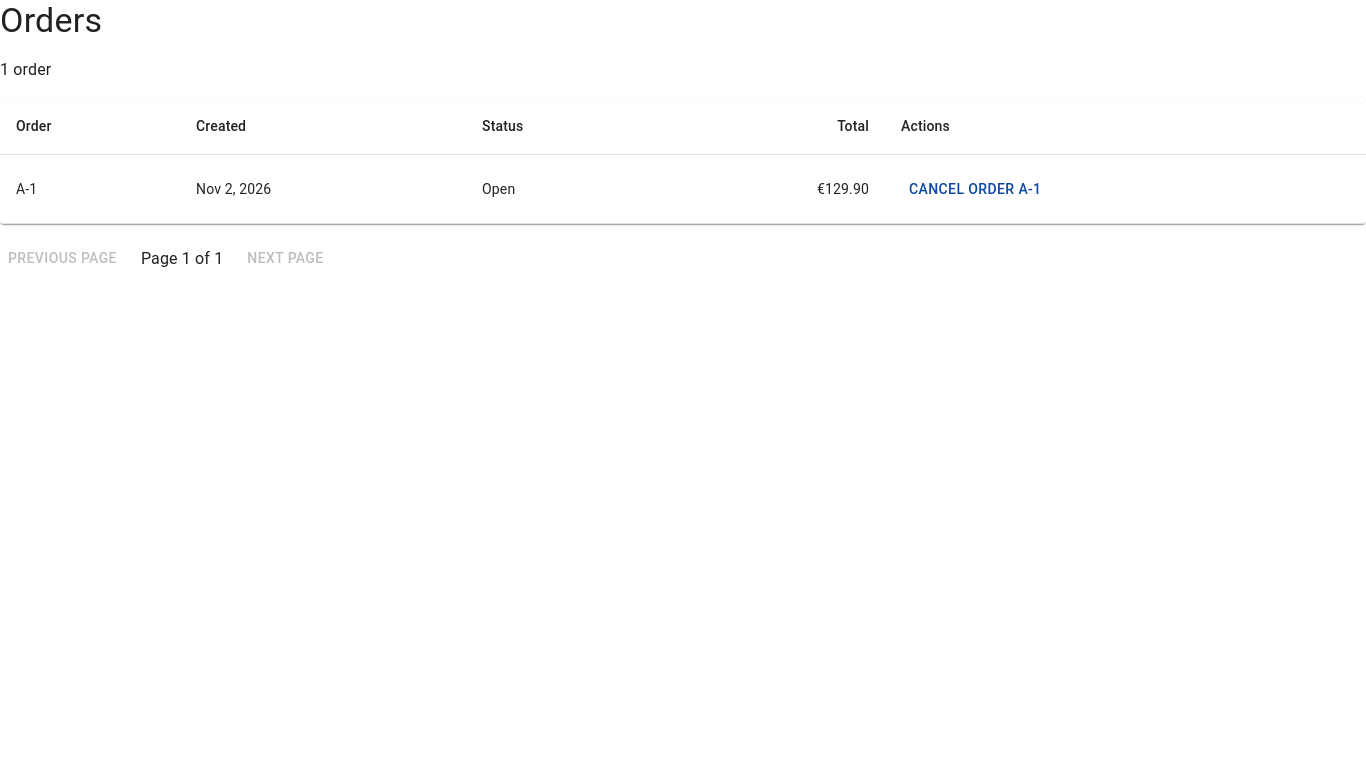
Scenario: OrdersPage › shows a business error in the dialog without reporting it
Click the button "Cancel order A-1" at (975, 189), box top-left (901, 171), bottom-right (1050, 208)
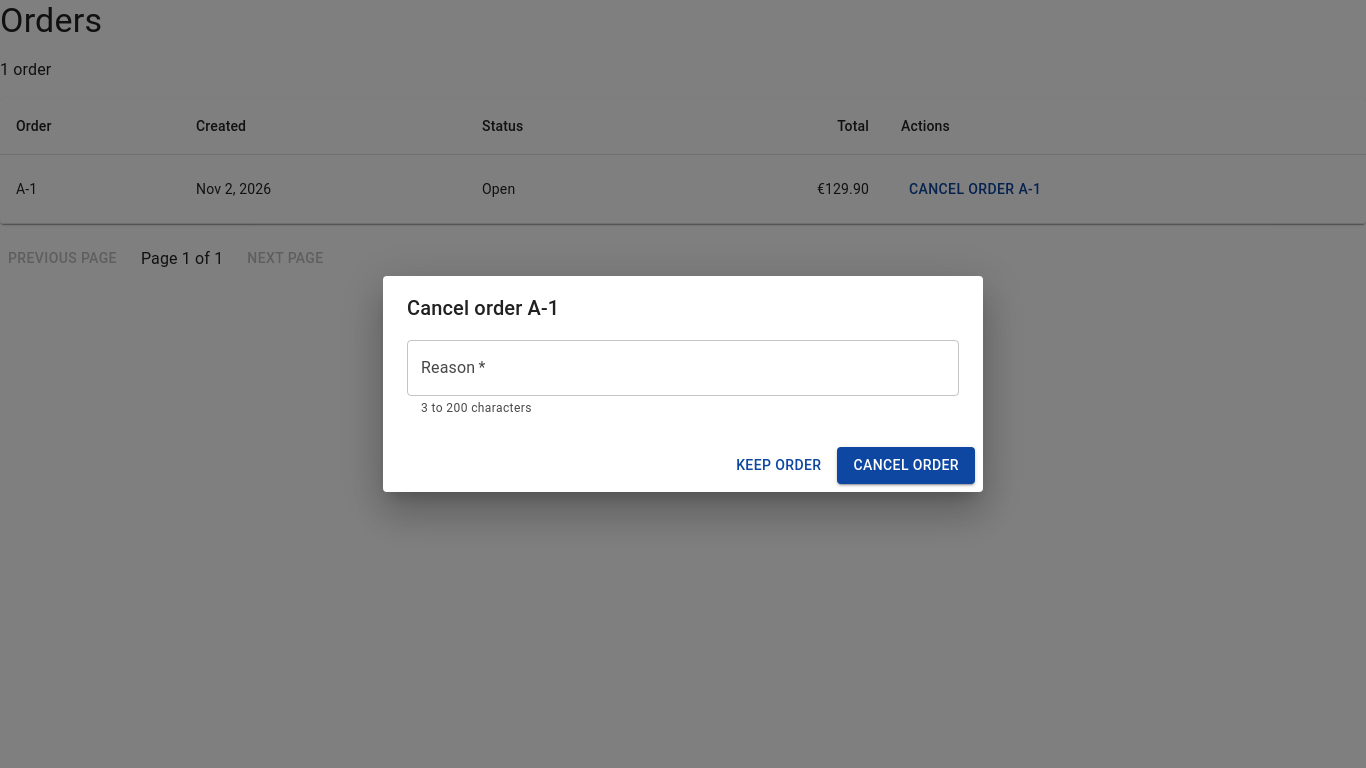
Type "Ordered twice" into the field labelled "Reason" at (683, 368), box top-left (407, 340), bottom-right (959, 396)
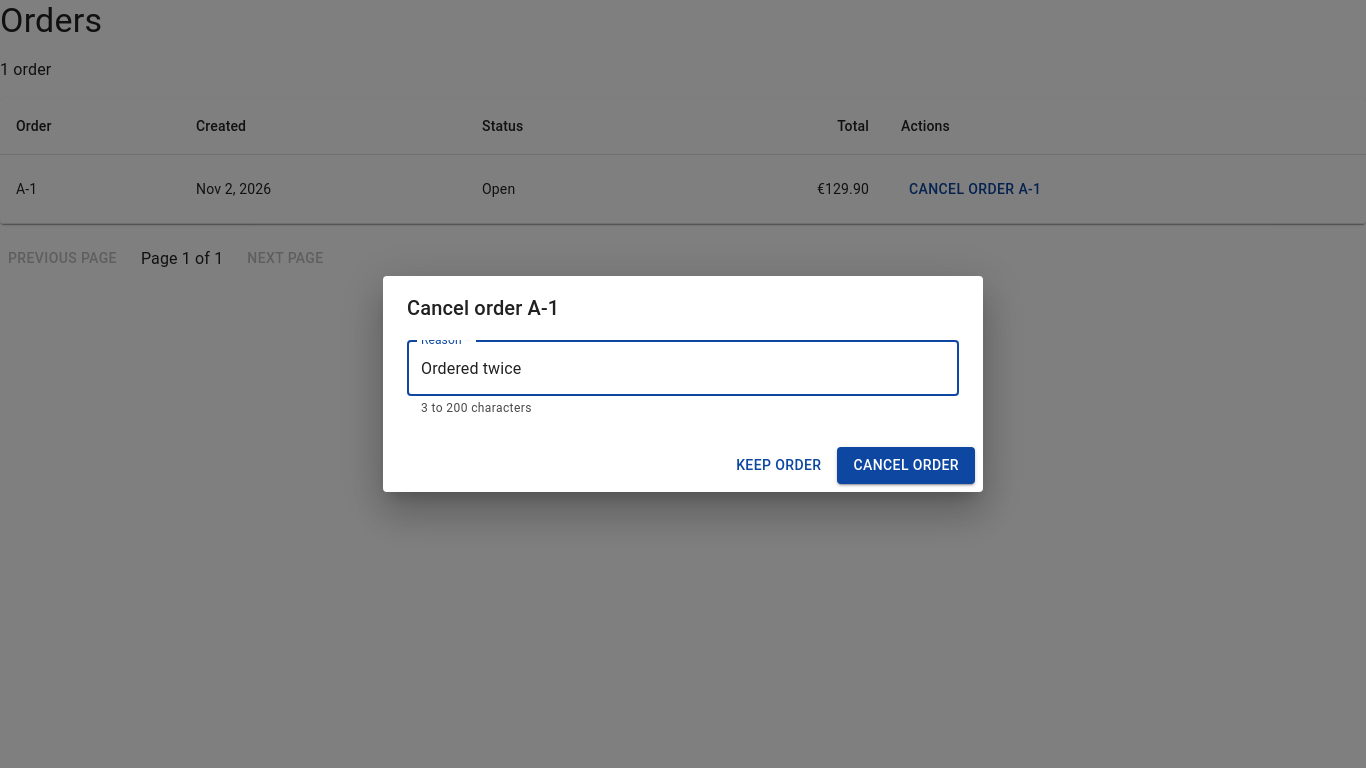
Click the button "Cancel order" at (906, 465), box top-left (838, 447), bottom-right (975, 484)
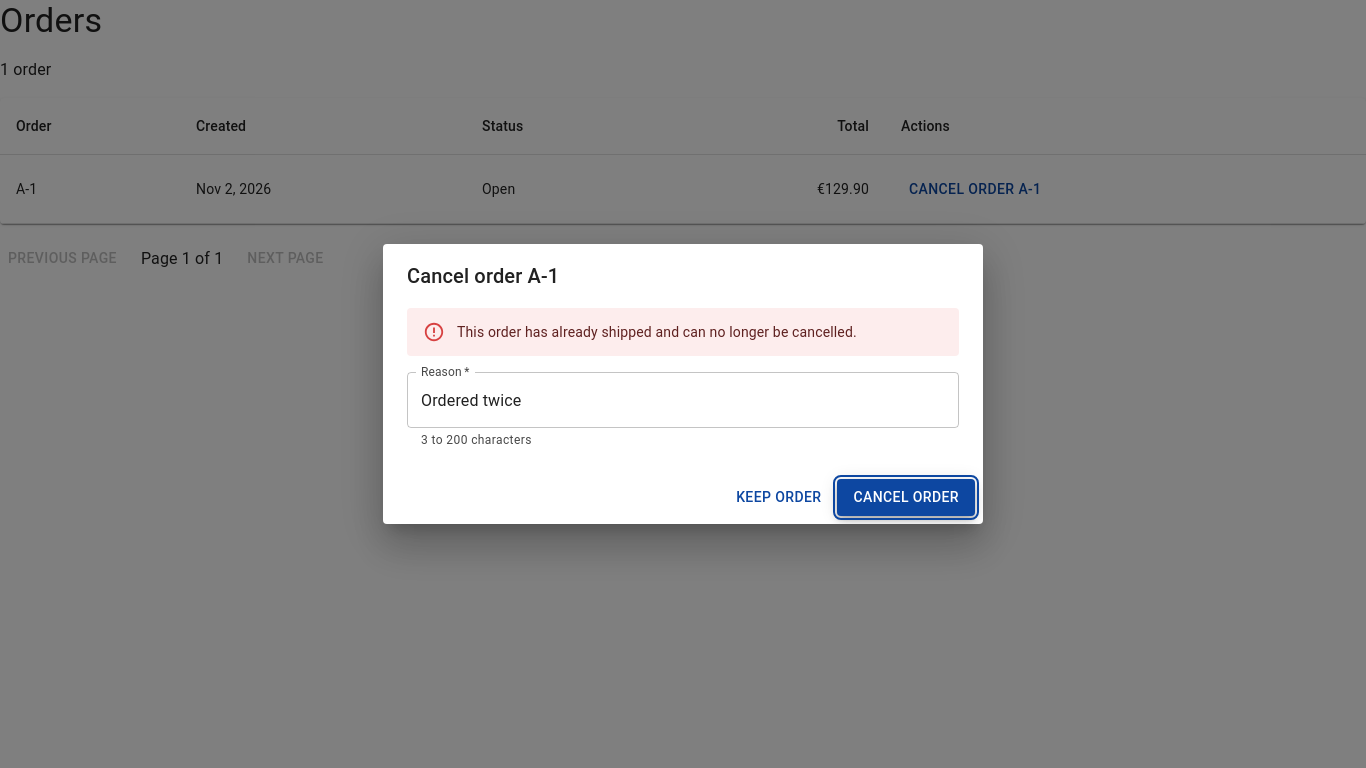
Expected: the message shows "already shipped", top-left (457, 324), bottom-right (857, 340)
